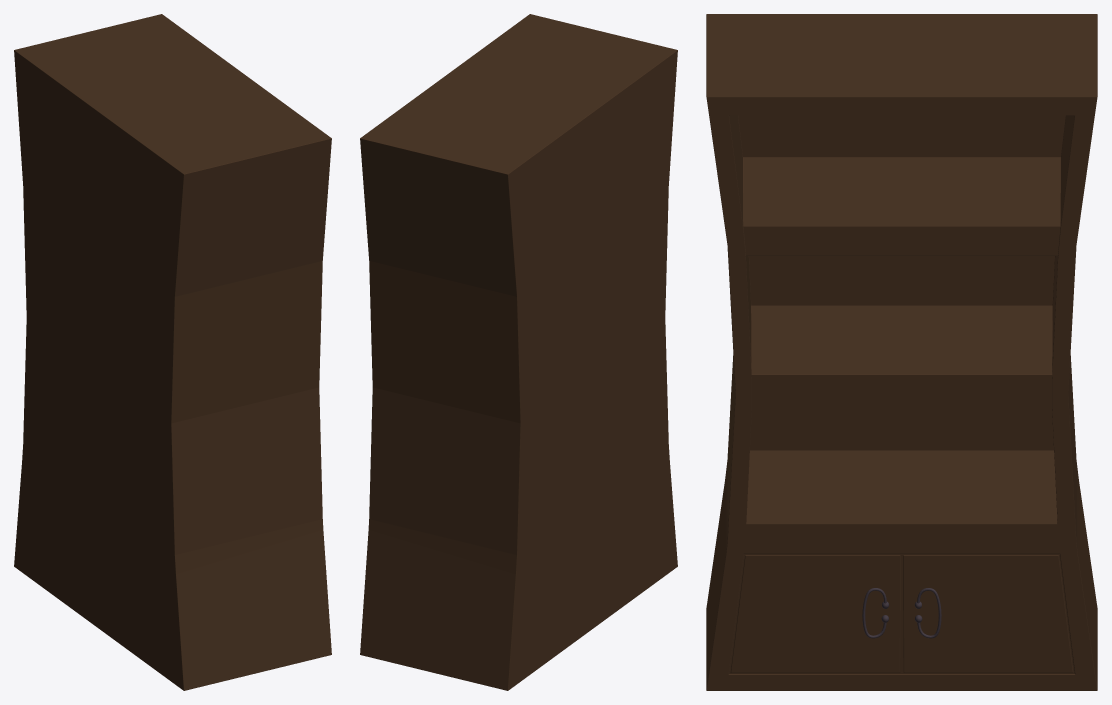
Rendered from ShelfV1.fbx.
3 views of the same model, side by side, from view 1: azimuth 30°, elevation 25°; view 2: azimuth 150°, elevation 25°; view 3: azimuth 270°, elevation 25° (orthographic). The views are drawn at different scales.
Parts seen in each view (by area): view 1: Cube.008; view 2: Cube.008; view 3: Cube.008.
Part boxes in pixels (left/top/right/bottom): Cube.008: left=14, top=14, right=331, bottom=690; Cube.008: left=360, top=14, right=677, bottom=690; Cube.008: left=706, top=14, right=1097, bottom=690.
Size of the model in its own units: 77.62 by 250 by 149.
